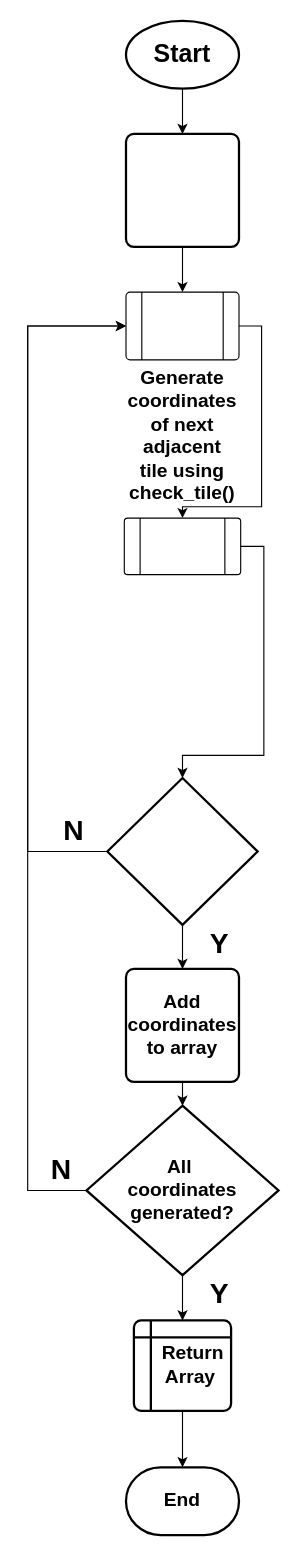
The diagram is 299 pixels wide and 1555 high, and some of its shapes have lost their labels. The shapes that lost their labels are listed below. From the top down, each one's box as (x1, y1, x2, y2) in pixels, then its label:
(124, 132, 240, 247): Create empty array
(123, 517, 241, 575): Check if the newly generated coordinates are valid using valid_tile()
(106, 776, 258, 925): Are the new coordinates valid?
